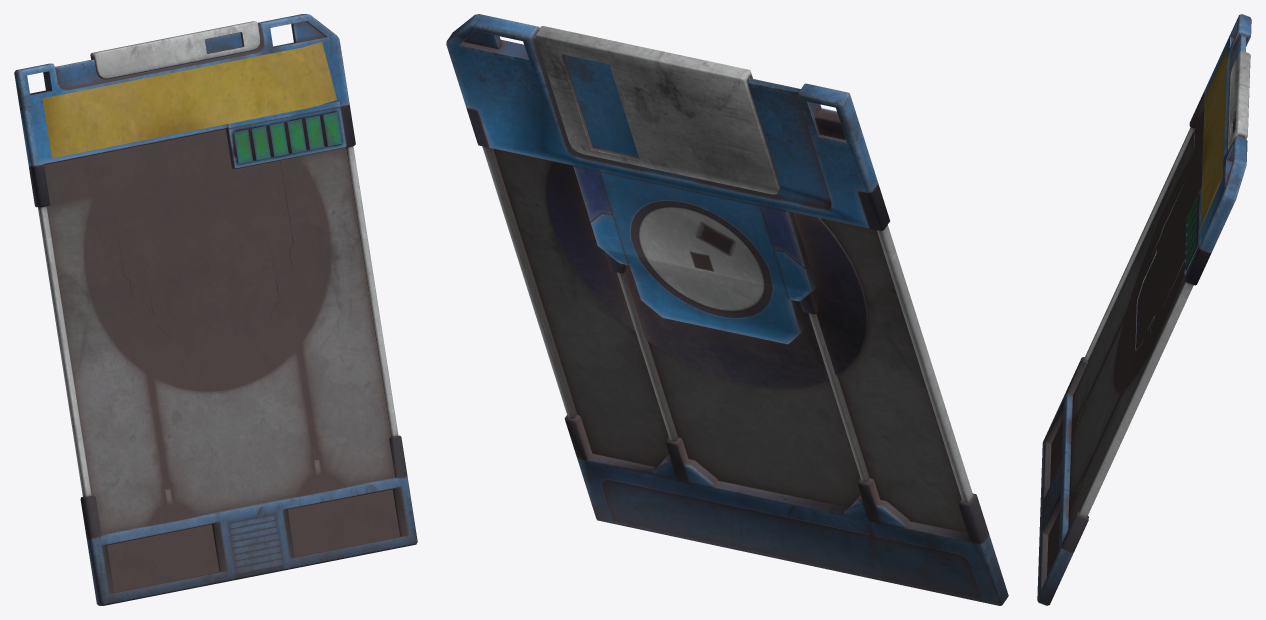
File: fuck.fbx
The picture shows the model from 3 angles, left to right: view 1: azimuth 30°, elevation 25°; view 2: azimuth 150°, elevation 25°; view 3: azimuth 270°, elevation 25°; orthographic projection. The views are drawn at different scales.
Parts seen in each view (by area): view 1: mdlCard; view 2: mdlCard; view 3: mdlCard.
Part boxes in pixels (x1,y1,x2,y2): mdlCard: (14, 14, 417, 605); mdlCard: (446, 14, 1008, 605); mdlCard: (1037, 14, 1251, 605).
Bounding box in the file's own units: 96.17 × 131 × 55.73.
